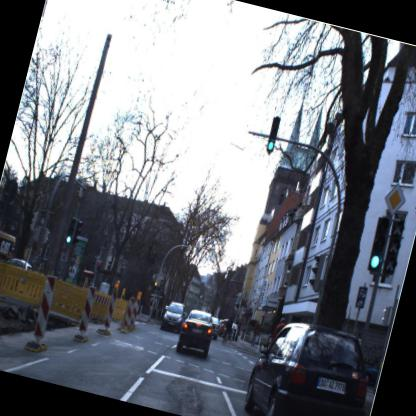other: (378, 180, 410, 218)
